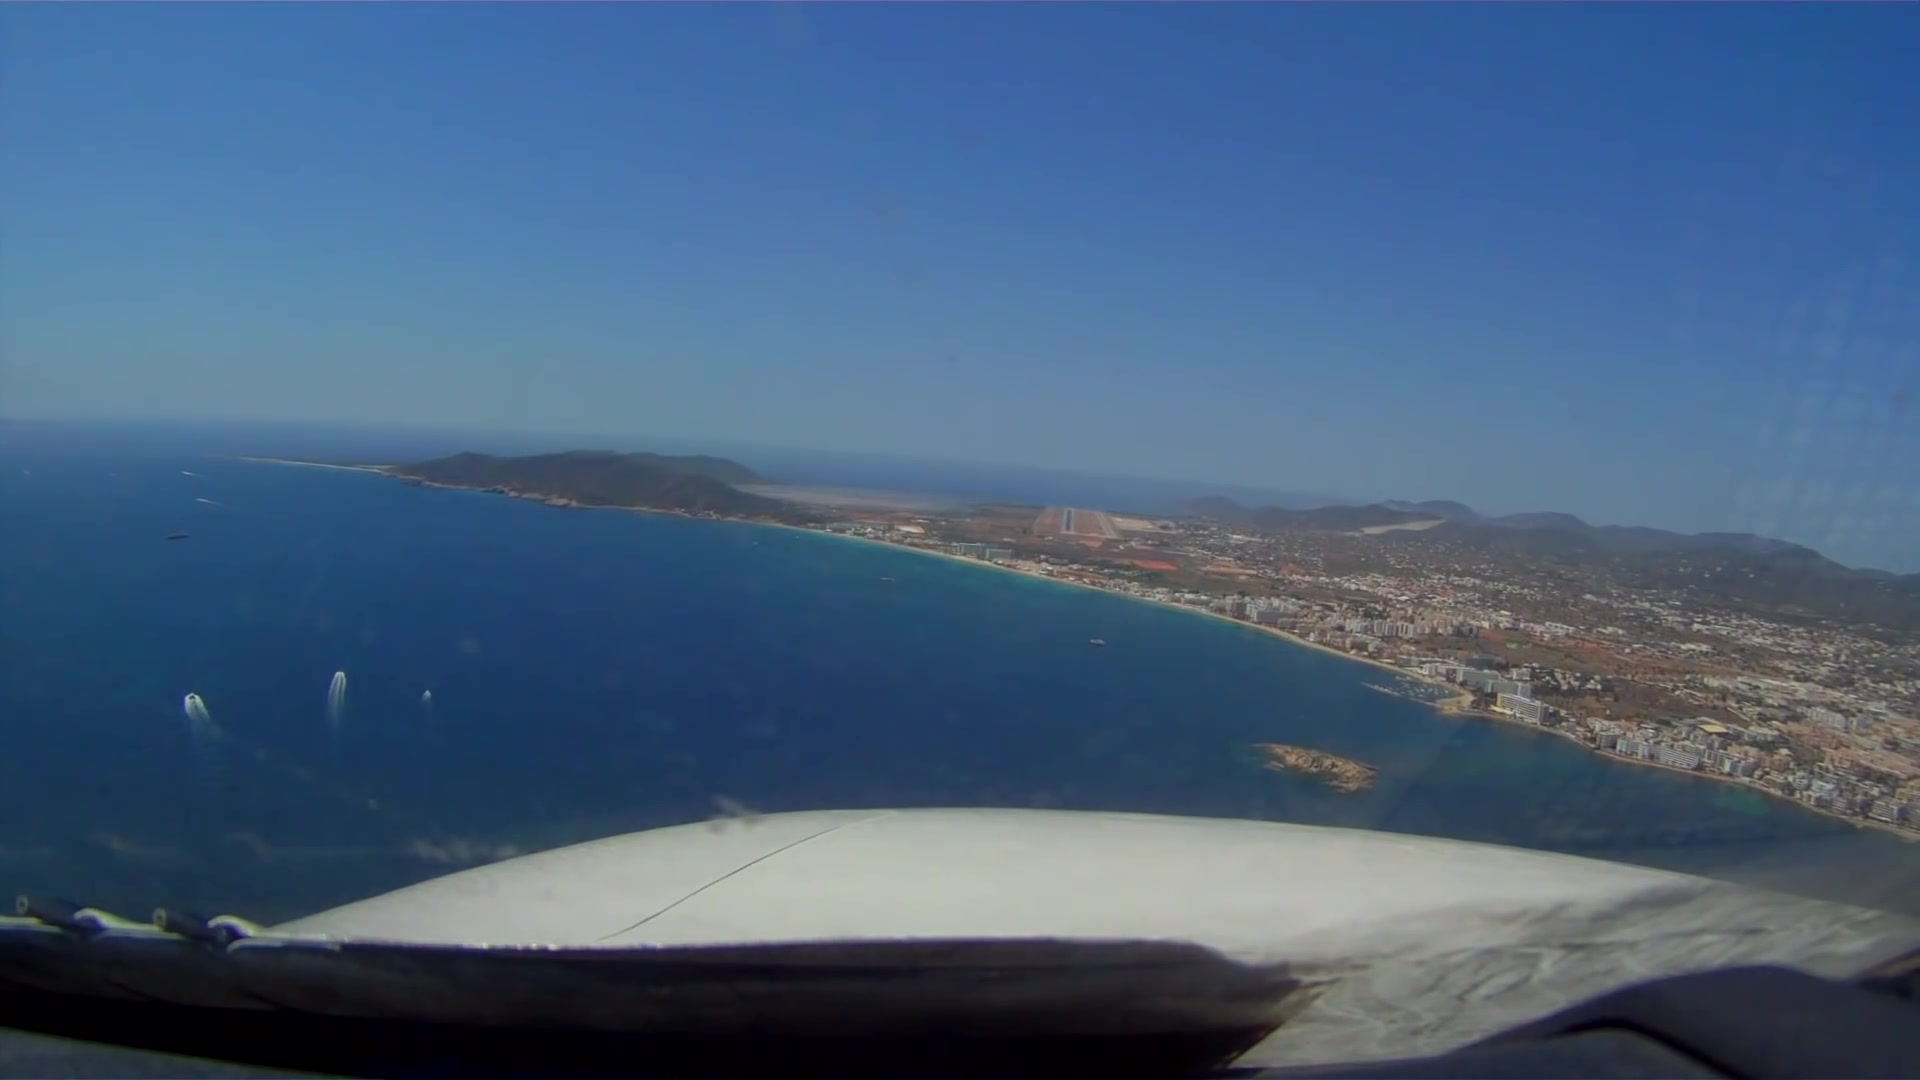runway: (1095, 513, 1120, 541), (1059, 506, 1077, 534)
